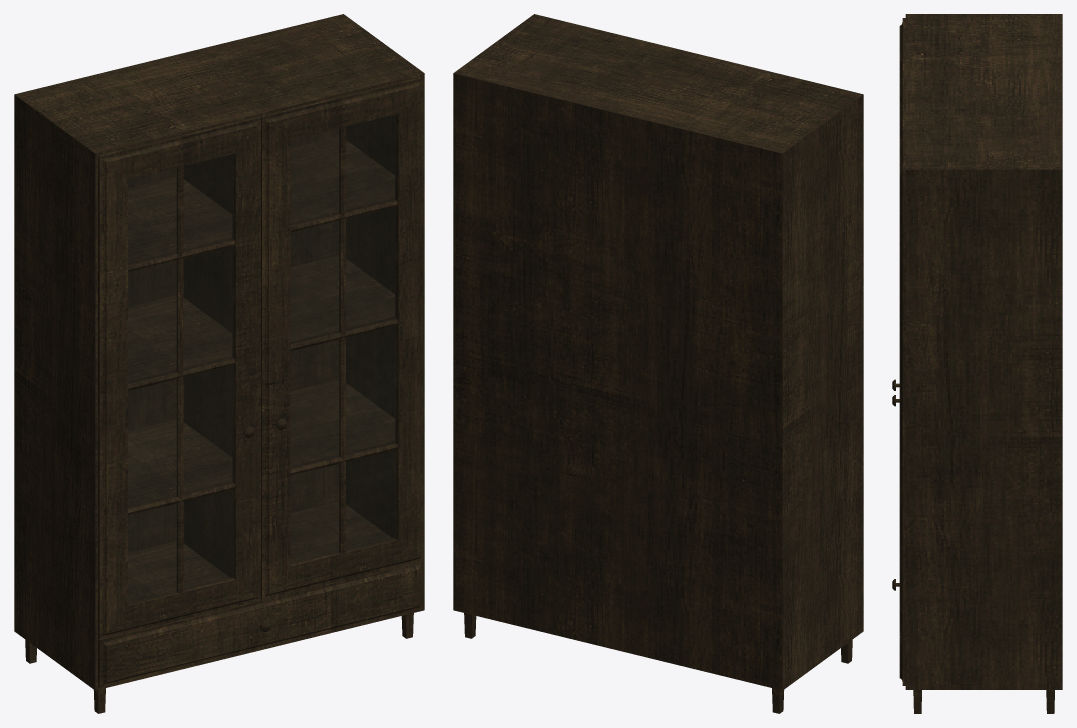
File: wardrobe_mp_2_3.glb
3 views of the same model, side by side, from view 1: azimuth 30°, elevation 25°; view 2: azimuth 150°, elevation 25°; view 3: azimuth 270°, elevation 25° (orthographic). The views are drawn at different scales.
Parts seen in each view (by area): view 1: wardrobe_mp_2_3, wardrobe_mp_2_3_drawer; view 2: wardrobe_mp_2_3; view 3: wardrobe_mp_2_3, wardrobe_mp_2_3_drawer.
Boxes of the visible parts, x1,y1,x2,y2 form: wardrobe_mp_2_3: [14, 14, 424, 713]; wardrobe_mp_2_3_drawer: [98, 561, 423, 688]; wardrobe_mp_2_3: [453, 14, 863, 713]; wardrobe_mp_2_3: [892, 14, 1062, 713]; wardrobe_mp_2_3_drawer: [892, 579, 905, 685].
Size of the model in its own units: 1.22 by 2 by 0.5645.
Materials: 2 (2 with a texture image).
